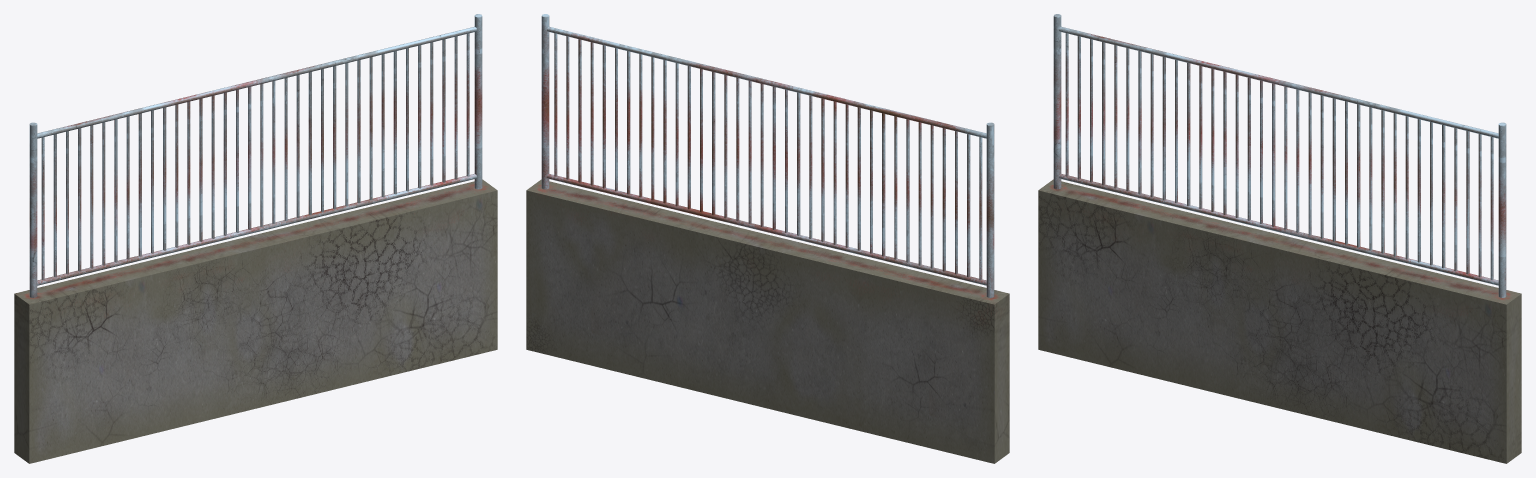
Rendered from RejaPared.fbx.
3 renders of one model, left to right at view 1: azimuth 30°, elevation 25°; view 2: azimuth 150°, elevation 25°; view 3: azimuth 330°, elevation 25°, orthographic.
Visible parts, largest first — view 1: RejaPared; view 2: RejaPared; view 3: RejaPared.
Part boxes in pixels (x1=…): RejaPared: x1=14, y1=14, x2=497, y2=463; RejaPared: x1=526, y1=14, x2=1009, y2=463; RejaPared: x1=1038, y1=14, x2=1521, y2=463.
Bounding box in the file's own units: 400 × 270 × 22.4.
Materials: 1 (1 with a texture image).
